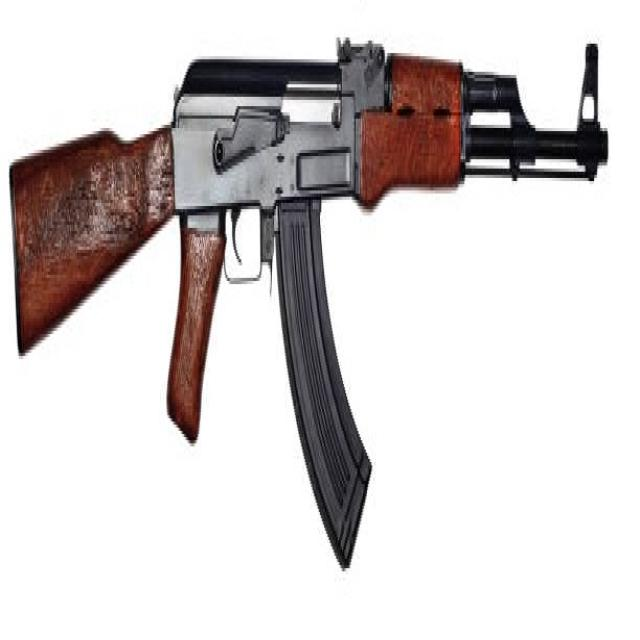rifle: (6, 22, 618, 597)
